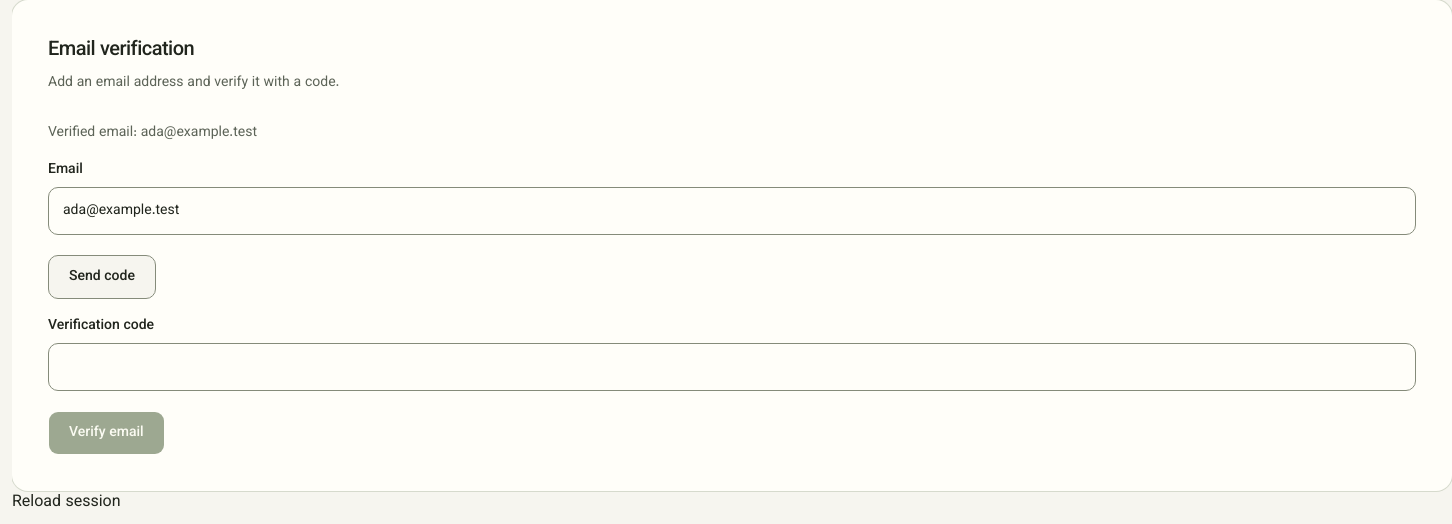
it: email verification ownership › cannot attach a delayed code response to an edited destination
Expected: the field labelled "Email" is shown, [48,187,1416,235]
Click the button "Send code" at x=102, y=277, box [48,255,156,299]
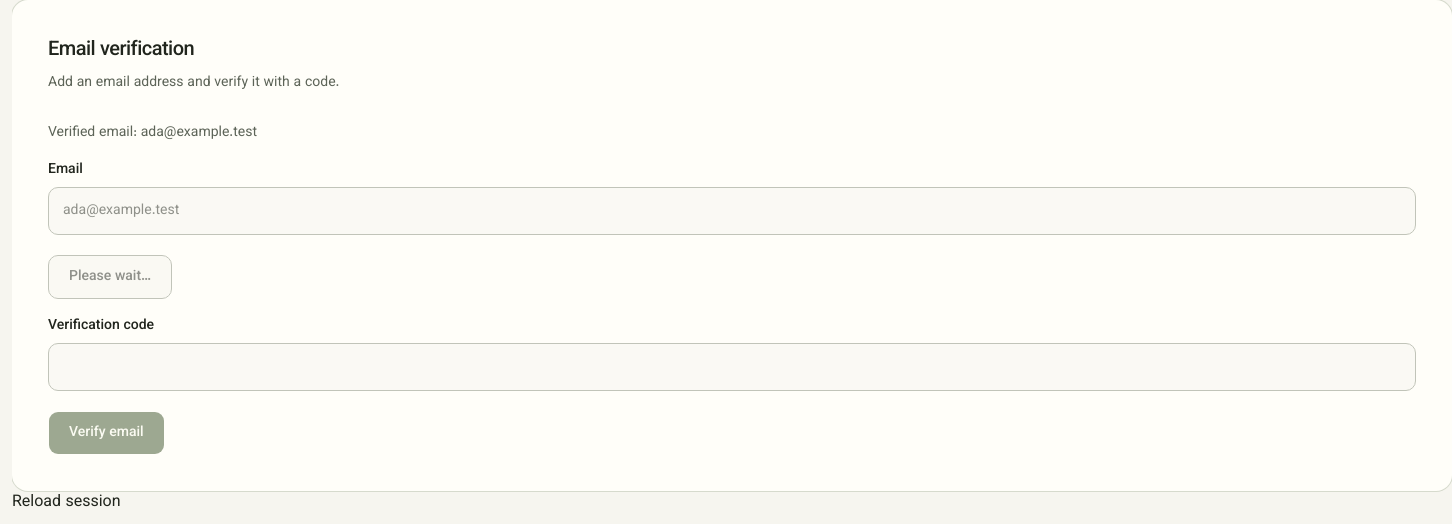
Replace the text in the field labelled "Email" with "edited@example.test" at x=732, y=211, box [48,187,1416,235]
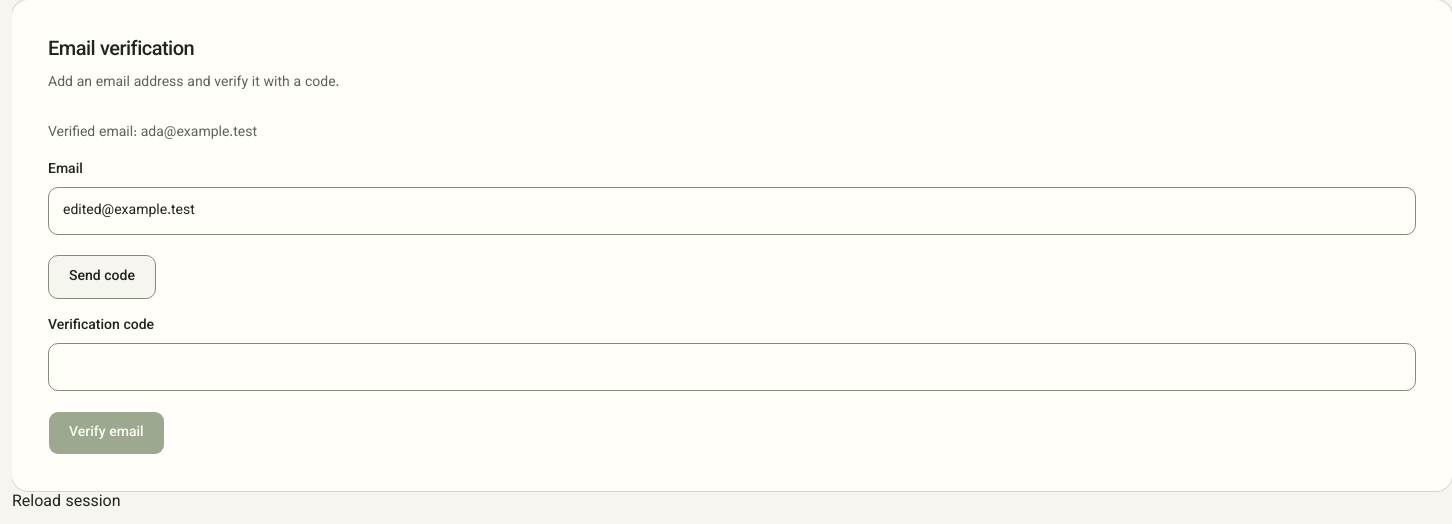
Expected: the button "Verify email" is disabled, [48,411,165,455]
Now the button "Send code" is shown, box [48,255,156,299]
